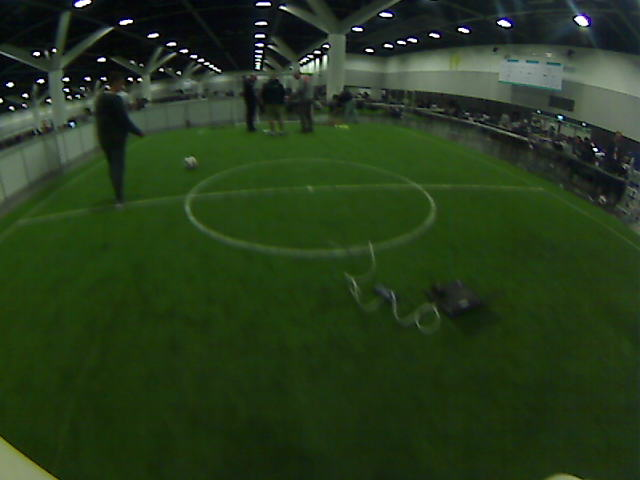ball: (169, 138, 209, 178)
goalpost: (230, 85, 243, 129)
